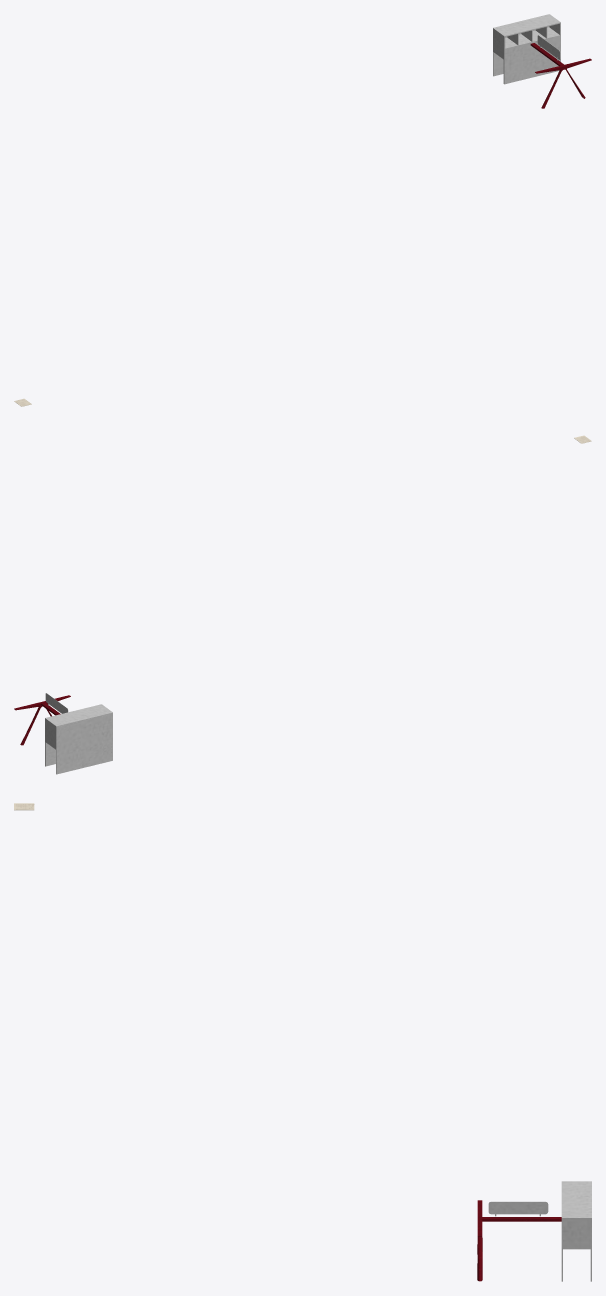
The picture shows the model from 3 angles, top to bottom: view 1: azimuth 30°, elevation 25°; view 2: azimuth 210°, elevation 25°; view 3: azimuth 270°, elevation 25°; orthographic projection. The views are drawn at different scales.
Parts seen in each view (by area): view 1: workstation08_parts_.010, workstation08_parts_.011; view 2: workstation08_parts_.010, workstation08_parts_.011; view 3: workstation08_parts_.011, workstation08_parts_.021.
Boxes of the visible parts, left/top/right/bottom form: workstation08_parts_.010: left=493, top=26, right=560, bottom=84; workstation08_parts_.011: left=493, top=14, right=560, bottom=37; workstation08_parts_.010: left=45, top=713, right=112, bottom=774; workstation08_parts_.011: left=45, top=704, right=112, bottom=727; workstation08_parts_.011: left=561, top=1181, right=591, bottom=1219; workstation08_parts_.021: left=488, top=1201, right=548, bottom=1214.
Size of the model in its own units: 15.76 by 1.03 by 7.99.
4 materials, 4 textured.
